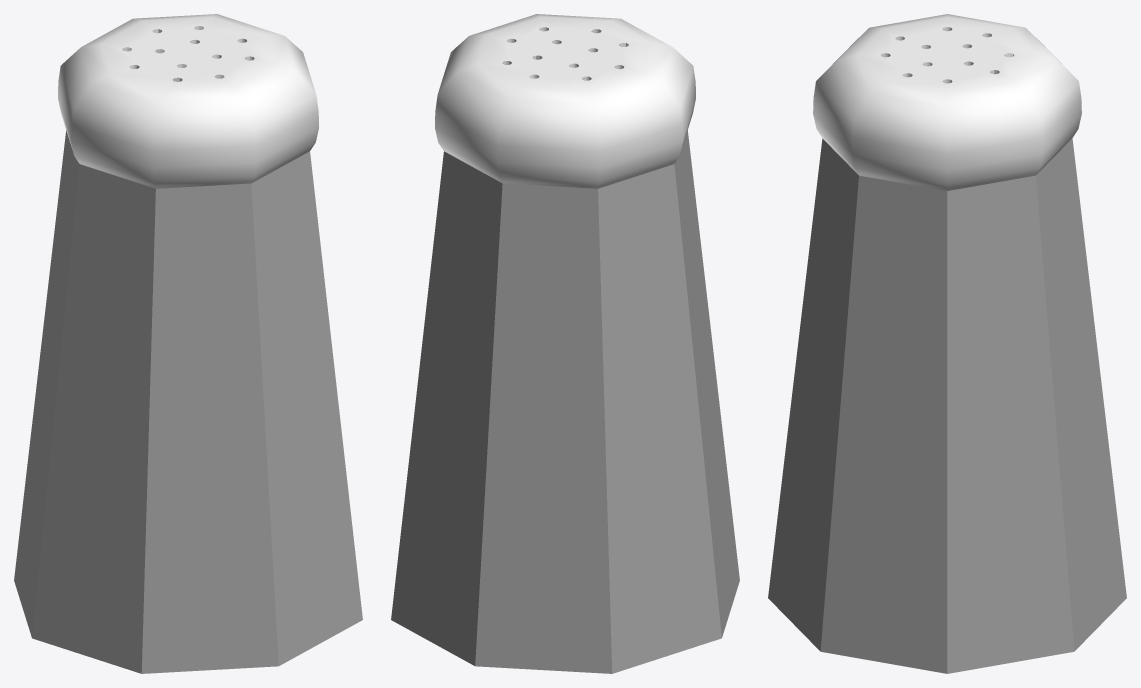
The model's file is salt.glb.
3 views of the same model, side by side, from view 1: azimuth 30°, elevation 25°; view 2: azimuth 150°, elevation 25°; view 3: azimuth 270°, elevation 25° (orthographic).
Parts seen in each view (by area): view 1: salt.001; view 2: salt.001; view 3: salt.001.
Part boxes in pixels (x1,y1,x2,y2): salt.001: (14, 14, 362, 673); salt.001: (391, 14, 739, 673); salt.001: (768, 14, 1126, 673).
Size of the model in its own units: 0.0545 by 0.0909 by 0.0545.
Materials: 1 (1 with a texture image).
